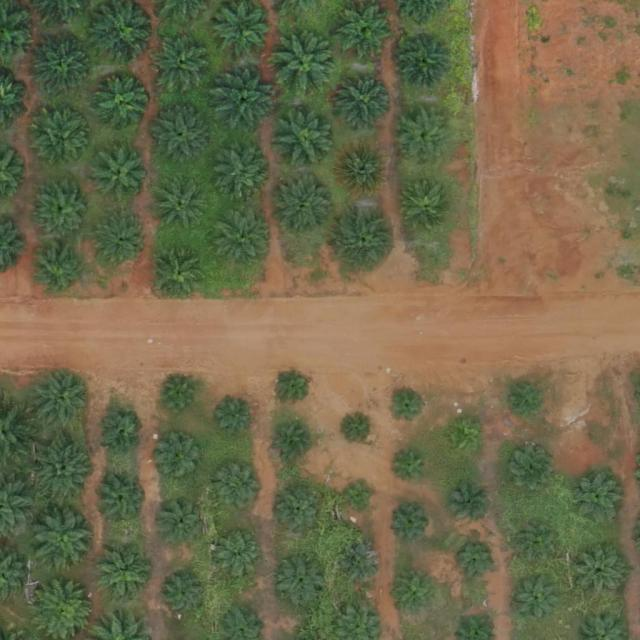Healthy: (150, 106, 213, 169), (32, 33, 95, 96), (335, 208, 398, 271), (30, 369, 93, 432), (276, 34, 338, 97), (213, 71, 275, 134), (152, 33, 214, 96), (34, 179, 96, 242), (211, 204, 273, 267), (275, 109, 337, 172), (274, 174, 336, 237), (33, 442, 95, 504), (33, 509, 95, 571), (398, 33, 453, 88), (340, 4, 395, 59), (336, 73, 391, 128), (94, 78, 149, 133), (35, 114, 90, 169), (33, 244, 88, 299), (94, 148, 149, 203), (96, 214, 151, 269), (156, 177, 211, 232), (154, 246, 209, 301), (220, 144, 275, 199), (402, 181, 457, 236), (97, 548, 152, 603), (398, 112, 452, 167), (575, 474, 622, 522)
Small: (93, 473, 148, 528), (275, 553, 330, 608), (215, 529, 262, 577), (162, 571, 209, 619), (517, 517, 564, 565), (507, 448, 554, 496), (578, 549, 625, 597), (157, 436, 204, 483), (216, 462, 263, 509), (277, 490, 324, 537), (159, 497, 206, 544), (517, 574, 564, 621), (96, 410, 143, 457), (339, 543, 386, 590), (446, 484, 493, 531), (455, 540, 502, 587), (161, 377, 200, 417), (273, 367, 312, 407), (273, 423, 313, 462), (391, 449, 430, 489), (391, 503, 430, 543), (502, 381, 542, 420), (217, 398, 256, 437), (389, 387, 428, 426), (397, 573, 436, 612), (445, 420, 484, 459), (345, 414, 376, 446), (345, 481, 376, 513)
Yellow: (336, 142, 391, 197)
